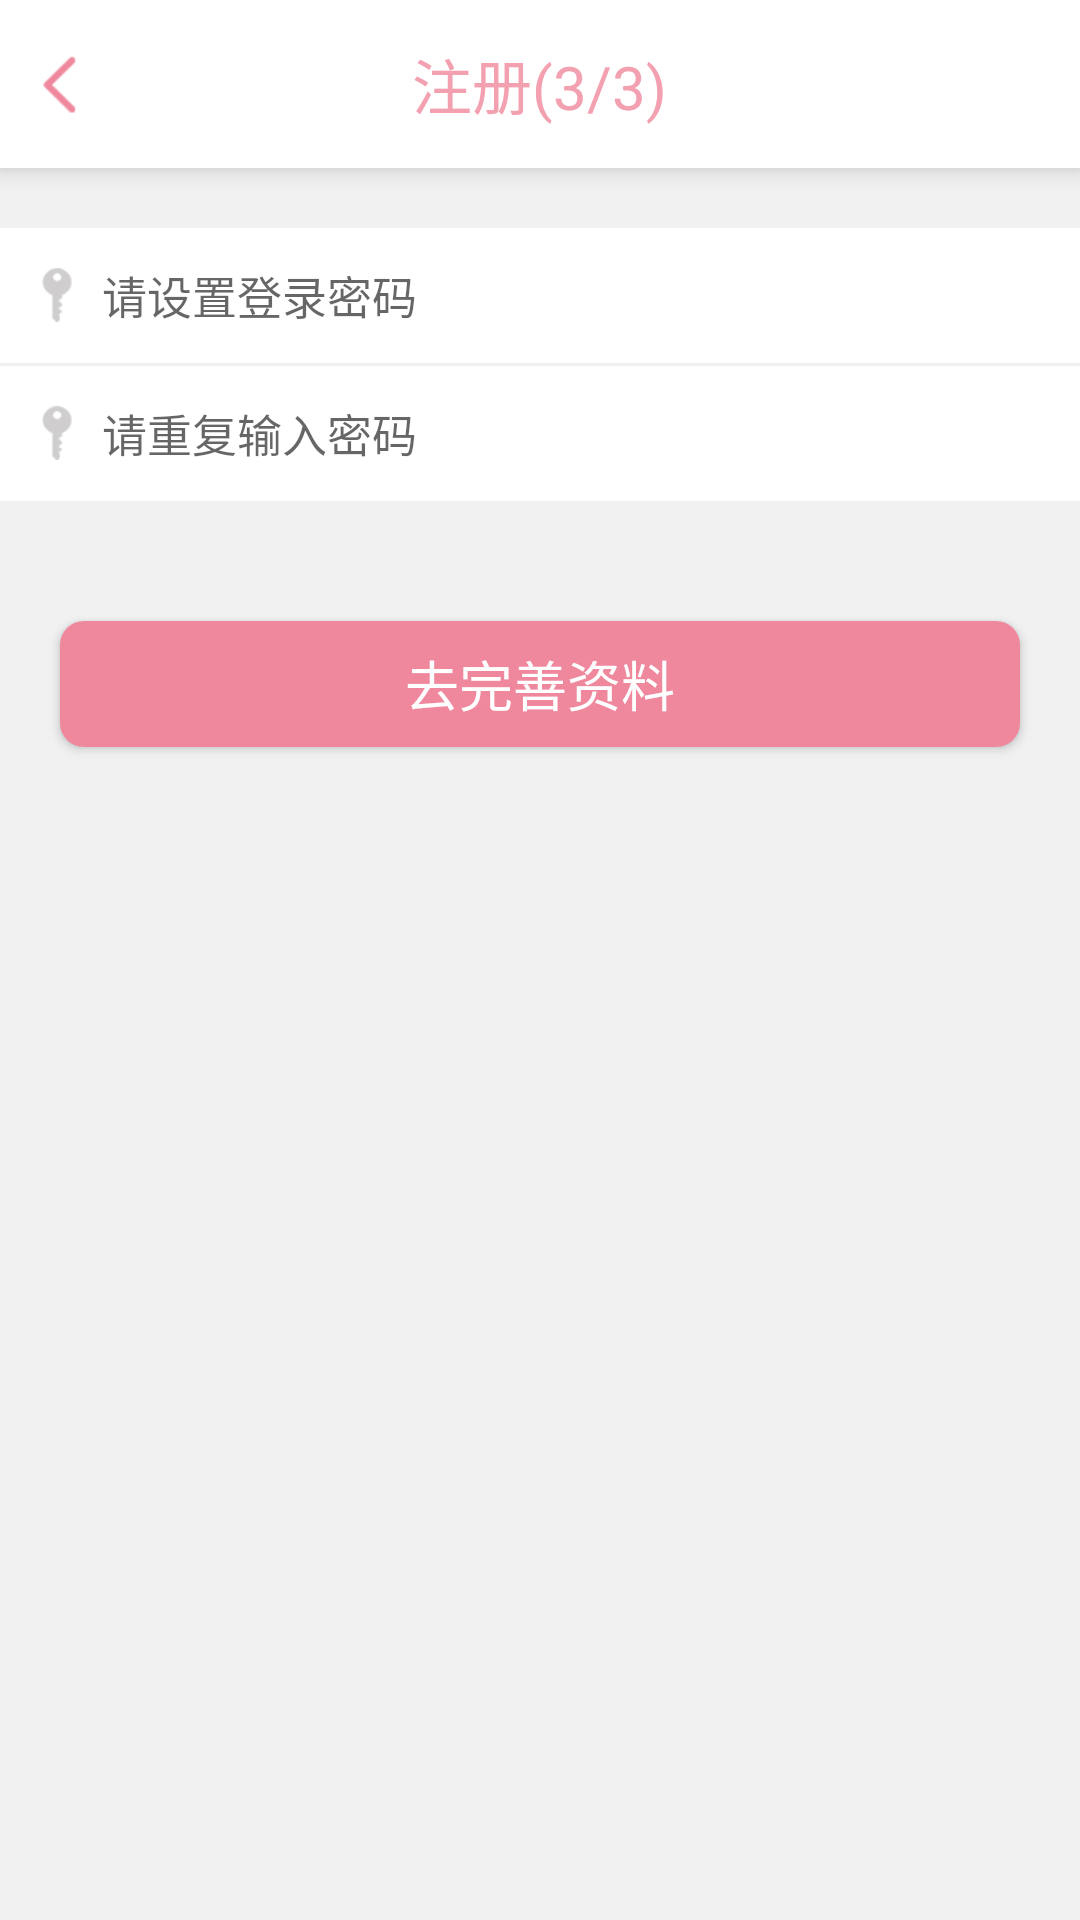

Icons on this 1080w x 1920h Android screen, each with the point to tap as (x=x, y=y):
yaoshi: (x=57, y=295), (x=57, y=433)
